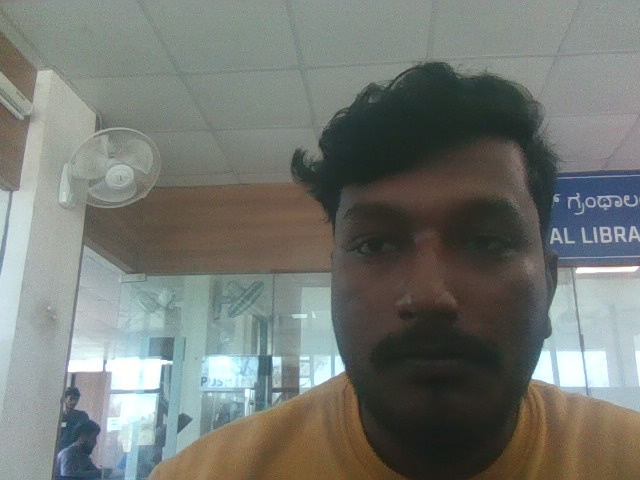real: (291, 33, 593, 461)
